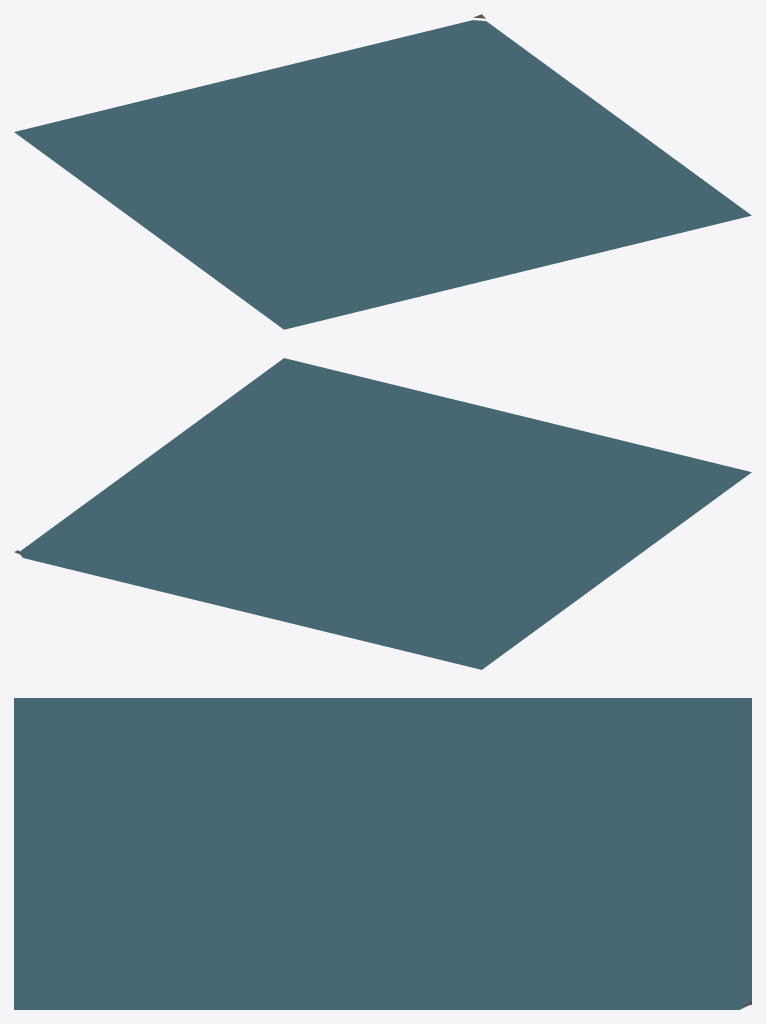
3 renders of one model, top to bottom at view 1: azimuth 30°, elevation 25°; view 2: azimuth 150°, elevation 25°; view 3: azimuth 270°, elevation 25°, orthographic. The views are drawn at different scales.
Visible parts, largest first — view 1: c_m21_m01; view 2: c_m21_m01; view 3: c_m21_m01.
Boxes of the visible parts, x1,y1,x2,y2 form: c_m21_m01: [14, 14, 751, 329]; c_m21_m01: [14, 358, 751, 669]; c_m21_m01: [14, 698, 751, 1009].
Bounding box in the file's own units: 128 × 0.9688 × 128.
